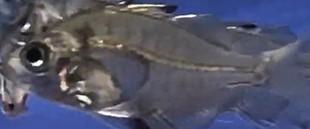Glass Perchlet: (2, 3, 310, 128)
